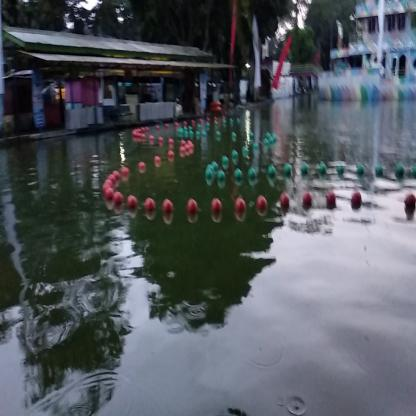green_buoy: (300, 160, 310, 177), (282, 162, 291, 180), (206, 166, 215, 184), (234, 169, 244, 184), (247, 168, 256, 184), (376, 164, 384, 180), (269, 164, 277, 179), (218, 170, 226, 185), (357, 164, 365, 178), (396, 164, 404, 177), (337, 162, 343, 177), (319, 162, 325, 176), (222, 154, 228, 167), (213, 161, 219, 173)
red_buoy: (210, 199, 224, 221), (185, 199, 199, 220), (405, 194, 415, 220), (351, 190, 362, 212), (234, 197, 244, 221), (164, 198, 174, 221), (326, 194, 338, 212), (258, 197, 267, 221), (280, 196, 290, 216), (128, 196, 138, 216), (146, 193, 154, 218), (113, 192, 125, 208), (304, 194, 314, 212), (107, 188, 116, 206), (121, 164, 128, 180), (112, 168, 120, 182), (138, 160, 146, 173), (104, 179, 112, 192), (155, 157, 162, 167)
